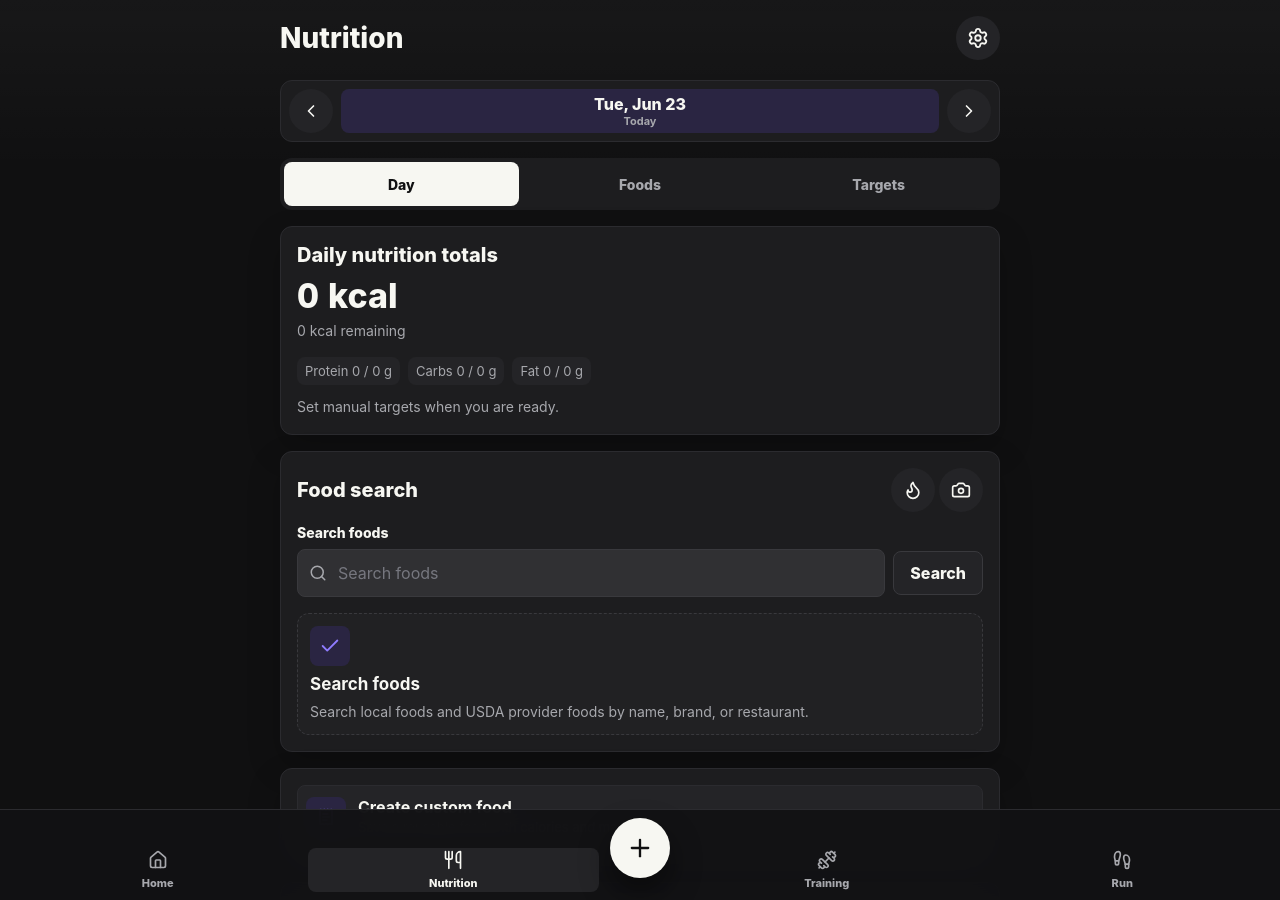
Scenario: NutritionPage › shows provider failures separately from no acceptable results
The image size is (1280, 900).
Type "zzz" into the search field labelled "Search foods" at point(591, 573), box [297,549,885,597]
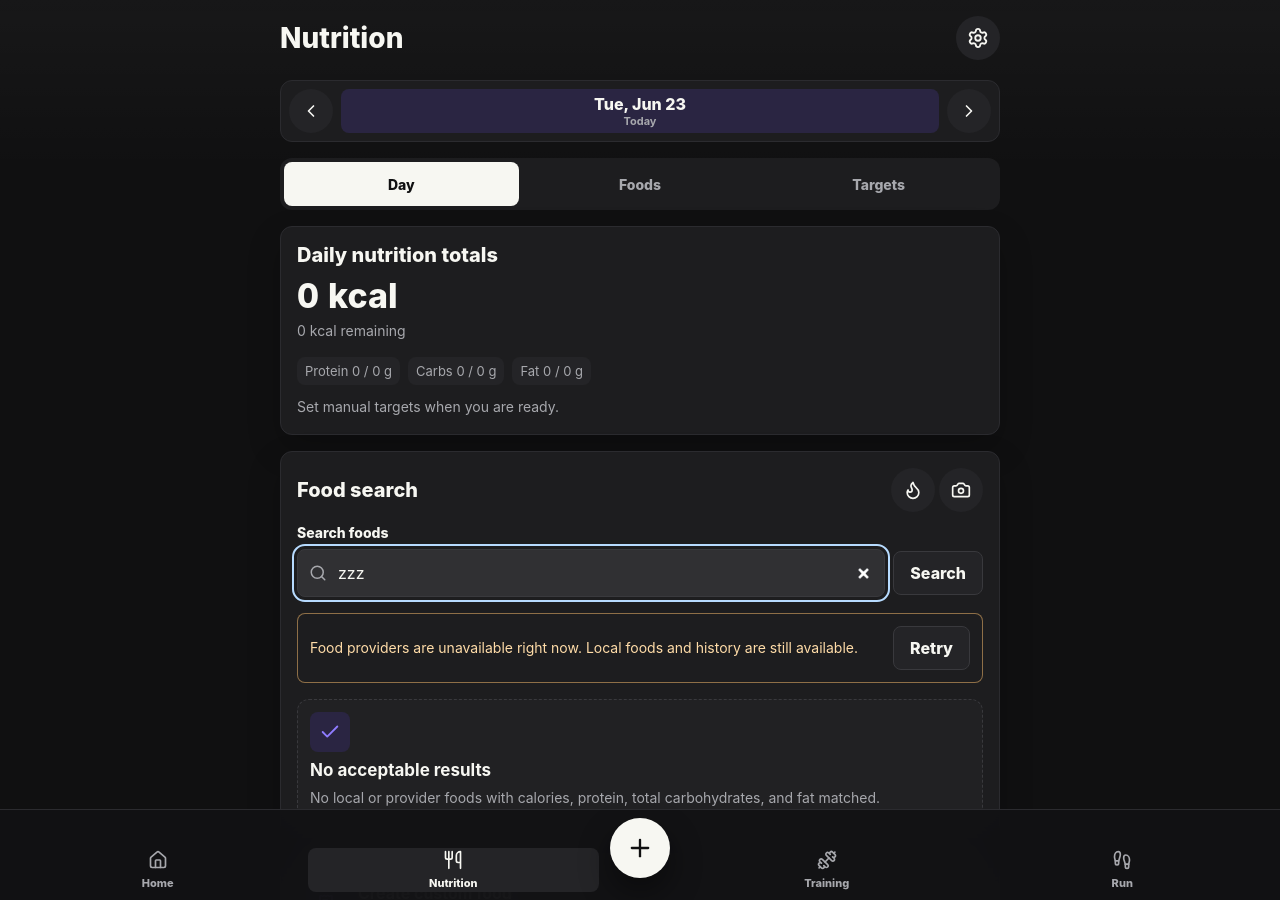
Check: the text "Food providers are unavailable" is shown, box [310,639,858,656]
Check: the heading "No acceptable results" is shown, box [310,760,491,780]
